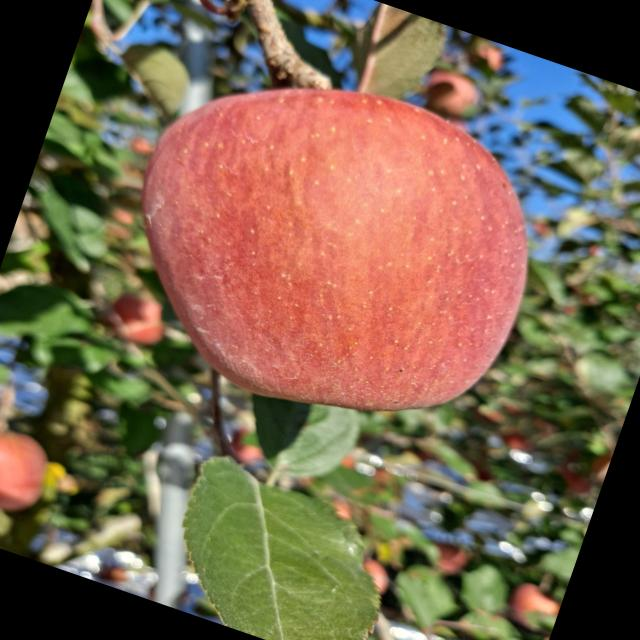fresh: (76, 18, 590, 479)
